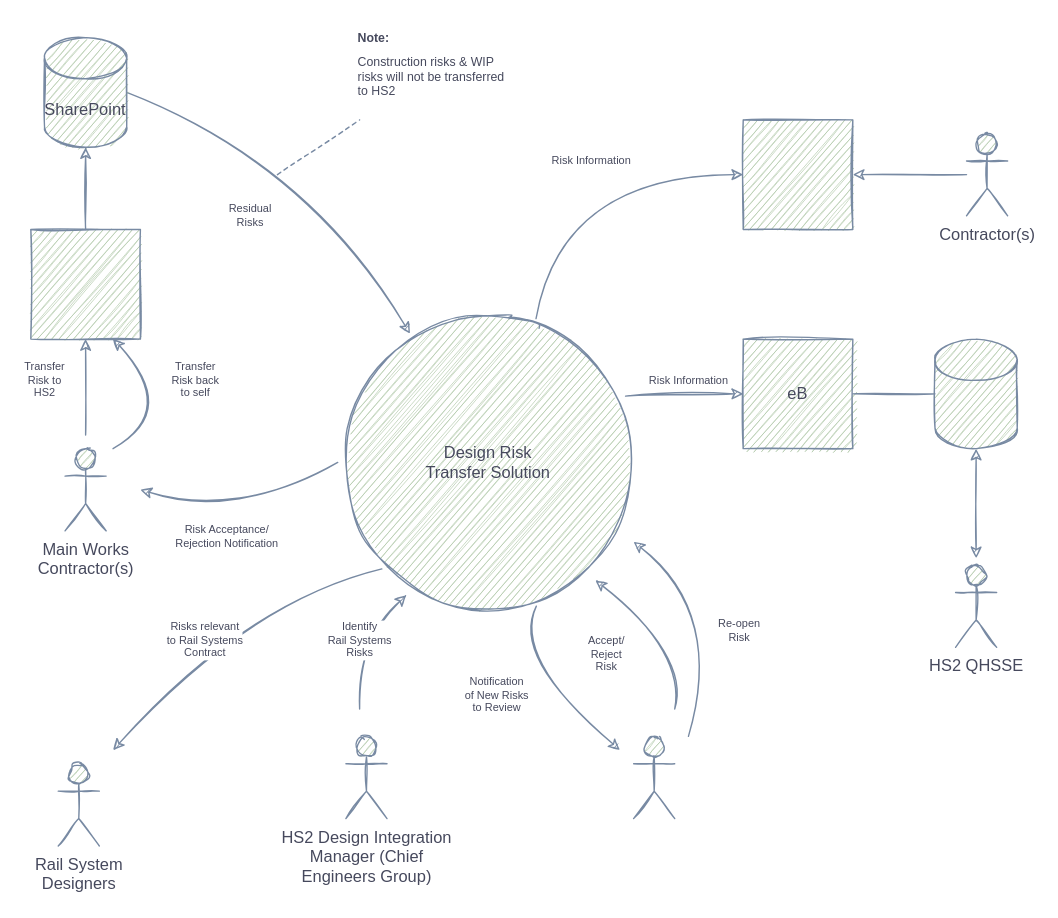
This 1058x918 diagram has some shape labels left out. The box of each missing label's shape, as (x1, y1, x2, y2) in pixels:
Collaboration Hub (iTwin): (742, 119, 853, 229)
Contractor Safetibase Site(s): (29, 228, 140, 339)
H&S Documents: (934, 338, 1017, 449)
HS2 Infrastructure Maintenance Engineers (Operations and Maintenance): (632, 735, 675, 819)
